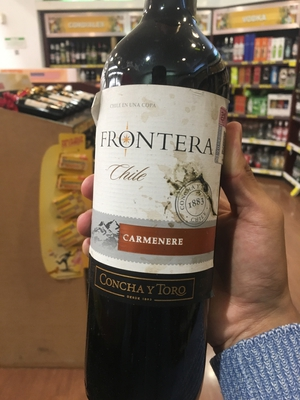frontera carmenere: (96, 20, 232, 400)
